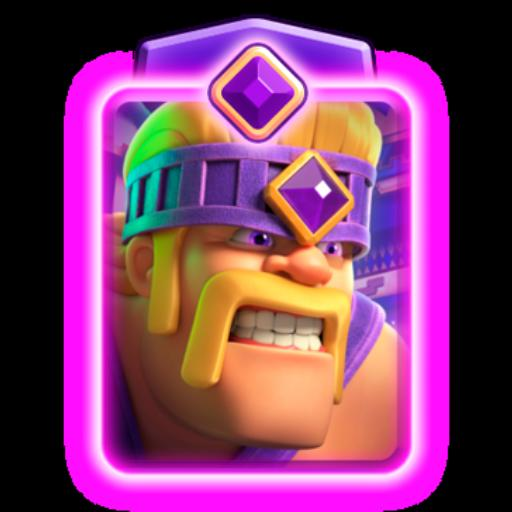barbarians-evo: (108, 80, 402, 464)
